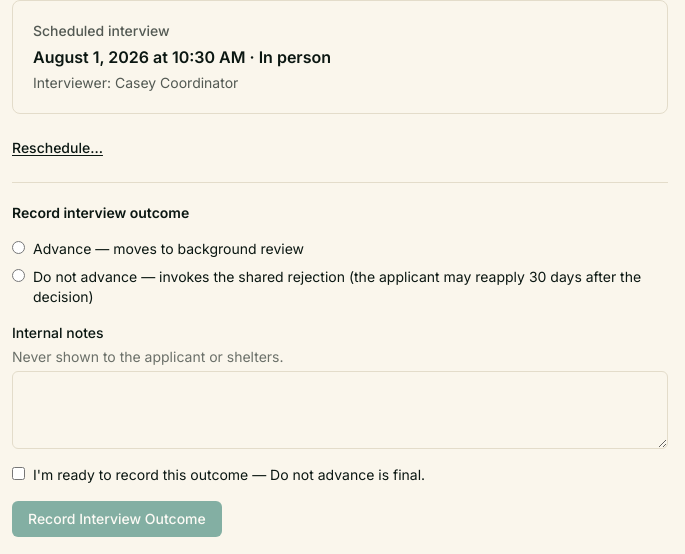
Test: InterviewPanel (Story 2.9) › requires outcome, notes, and confirmation before recording
The image size is (685, 554).
Expected: the button "Record Interview Outcome" is disabled, [12,501,222,537]
Click the radio button labelled "Advance — moves to background review".
click(18, 248)  # box [12,241,25,254]
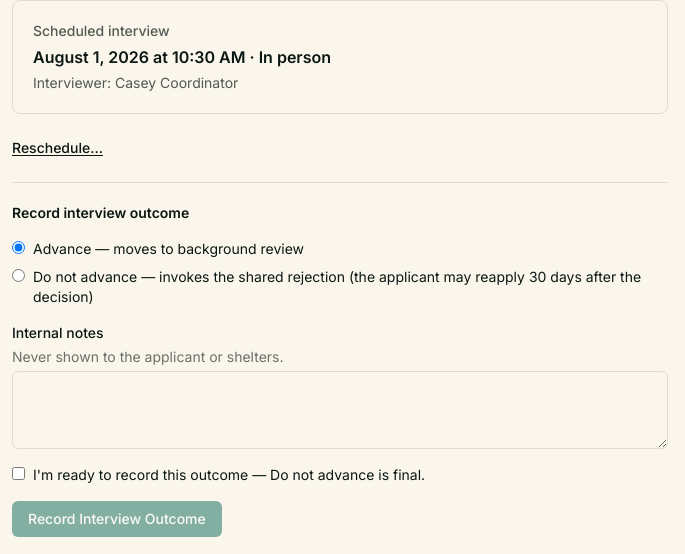
Expected: the button "Record Interview Outcome" is disabled, [12,501,222,537]
Click the checkbox labelled "I'm ready to record this outcome — Do not advance is final.".
click(18, 474)  # box [12,467,25,480]
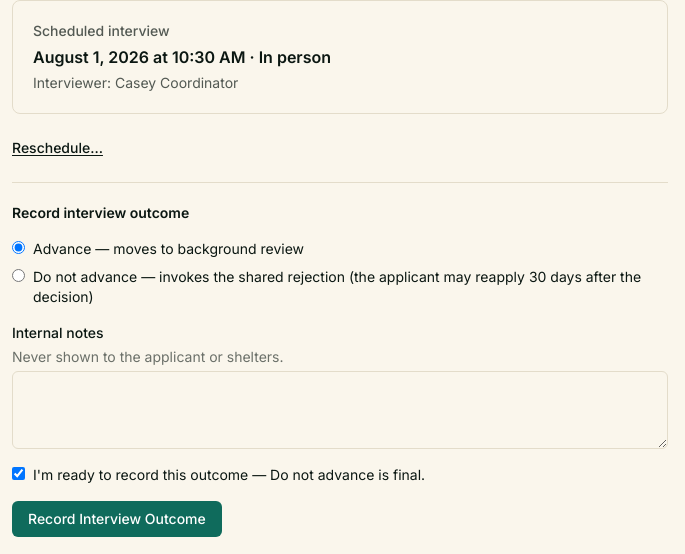
Expected: the button "Record Interview Outcome" is enabled, [12,501,222,537]
